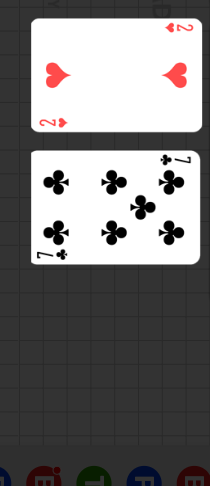2H: (38, 115, 69, 128)
7C: (35, 248, 69, 263)
